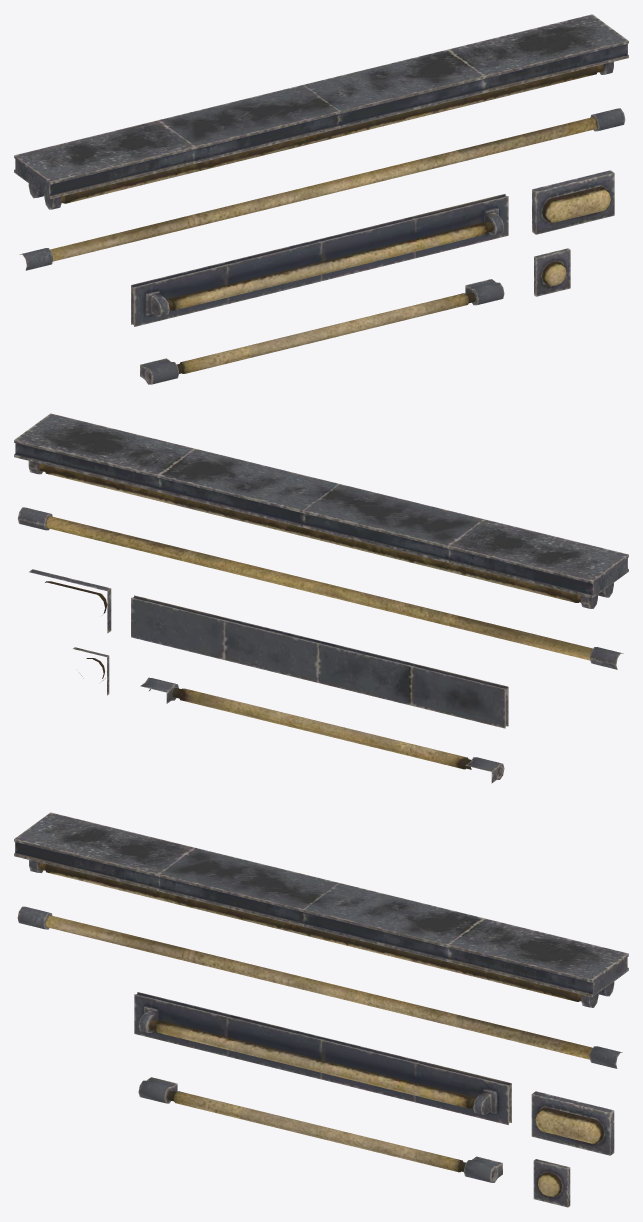
File: lights.glb
3 renders of one model, top to bottom at view 1: azimuth 30°, elevation 25°; view 2: azimuth 150°, elevation 25°; view 3: azimuth 330°, elevation 25°, orthographic.
Parts seen in each view (by area): view 1: Cube.003, Cube.013, Cube.007, Cube.014, Cube.024, Cube.004; view 2: Cube.003, Cube.013, Cube.007, Cube.014, Cube.024; view 3: Cube.003, Cube.013, Cube.007, Cube.014, Cube.024, Cube.004.
Part boxes in pixels (x1=…): Cube.003: x1=14, y1=14, x2=628, y2=209; Cube.013: x1=131, y1=194, x2=508, y2=326; Cube.007: x1=19, y1=108, x2=625, y2=270; Cube.014: x1=140, y1=279, x2=504, y2=384; Cube.024: x1=532, y1=170, x2=614, y2=234; Cube.004: x1=534, y1=248, x2=570, y2=296; Cube.003: x1=14, y1=413, x2=628, y2=608; Cube.013: x1=131, y1=595, x2=508, y2=728; Cube.007: x1=18, y1=507, x2=623, y2=669; Cube.014: x1=140, y1=677, x2=504, y2=783; Cube.024: x1=29, y1=569, x2=111, y2=633; Cube.003: x1=14, y1=812, x2=628, y2=1007; Cube.013: x1=134, y1=992, x2=511, y2=1124; Cube.007: x1=17, y1=906, x2=622, y2=1068; Cube.014: x1=138, y1=1077, x2=502, y2=1182; Cube.024: x1=531, y1=1091, x2=614, y2=1155; Cube.004: x1=533, y1=1159, x2=570, y2=1207.
Bounding box in the file's own units: 3.57 × 1.42 × 0.3773.
Materials: 1 (1 with a texture image).
